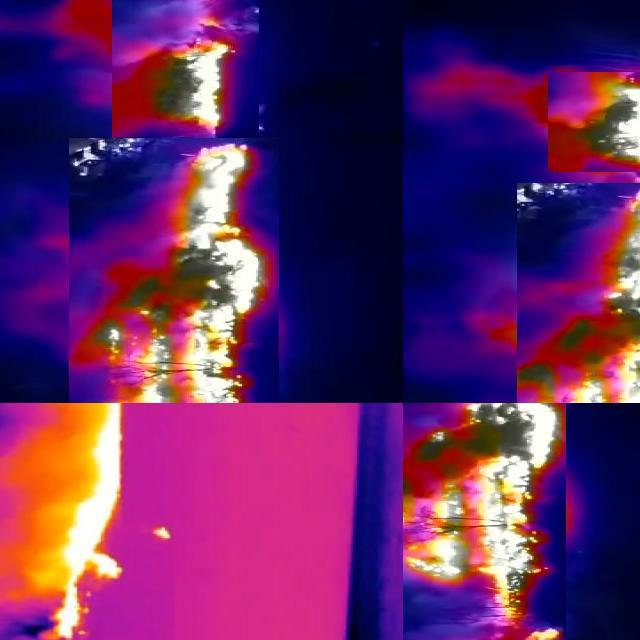fire: (70, 138, 280, 404), (1, 404, 175, 640), (404, 404, 567, 640), (518, 183, 640, 404), (113, 1, 260, 140), (549, 72, 640, 172)
